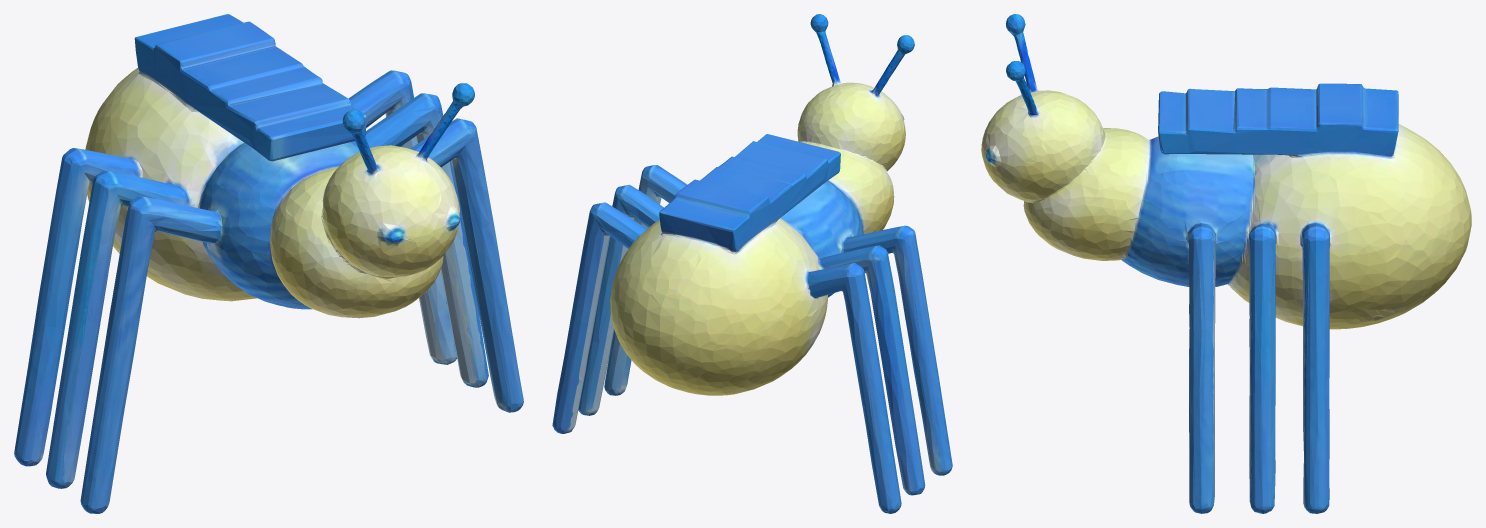
Rendered from creature-104.lod.glb.
The picture shows the model from 3 angles, left to right: view 1: azimuth 30°, elevation 25°; view 2: azimuth 150°, elevation 25°; view 3: azimuth 270°, elevation 25°; orthographic projection. The views are drawn at different scales.
Parts seen in each view (by area): view 1: tmpiikfifzj.ply; view 2: tmpiikfifzj.ply; view 3: tmpiikfifzj.ply.
Boxes of the visible parts, left/top/right/bottom form: tmpiikfifzj.ply: left=14, top=14, right=523, bottom=513; tmpiikfifzj.ply: left=552, top=14, right=952, bottom=513; tmpiikfifzj.ply: left=981, top=14, right=1471, bottom=513.
Size of the model in its own units: 1.41 by 1.36 by 1.56.
Materials: 1 (1 with a texture image).
